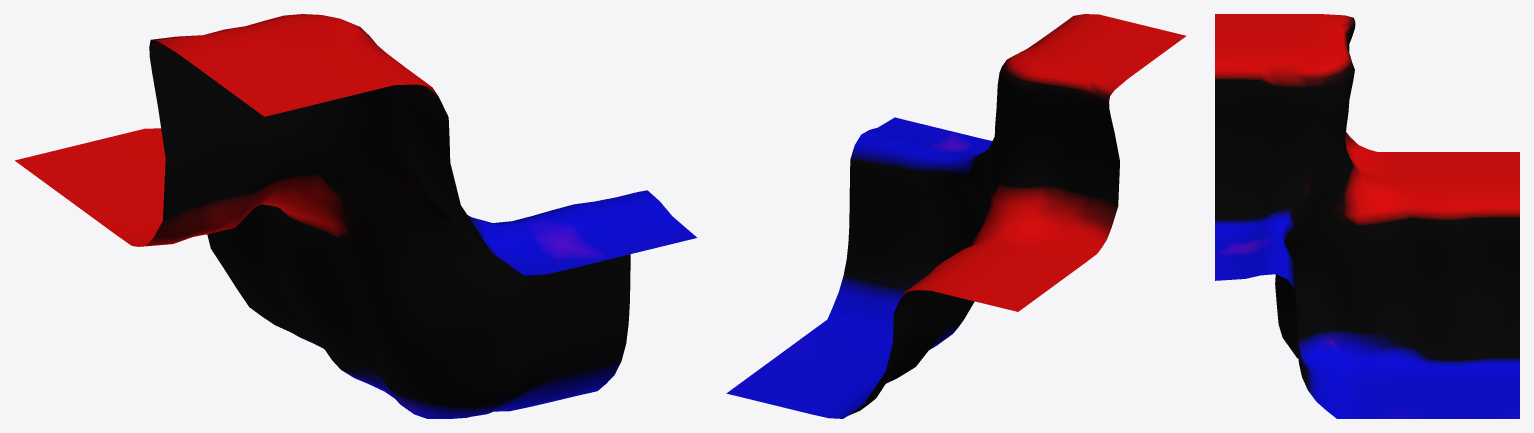
File: WaterFallCliff00A 2M.fbx
3 renders of one model, left to right at view 1: azimuth 30°, elevation 25°; view 2: azimuth 150°, elevation 25°; view 3: azimuth 270°, elevation 25°, orthographic. The views are drawn at different scales.
Parts seen in each view (by area): view 1: WaterFallCliff00A 2M; view 2: WaterFallCliff00A 2M; view 3: WaterFallCliff00A 2M.
Part boxes in pixels (x1,y1,x2,y2): WaterFallCliff00A 2M: (15,14,696,418); WaterFallCliff00A 2M: (726,14,1186,418); WaterFallCliff00A 2M: (1215,14,1519,418).
Bounding box in the file's own units: 2 × 2 × 2.
